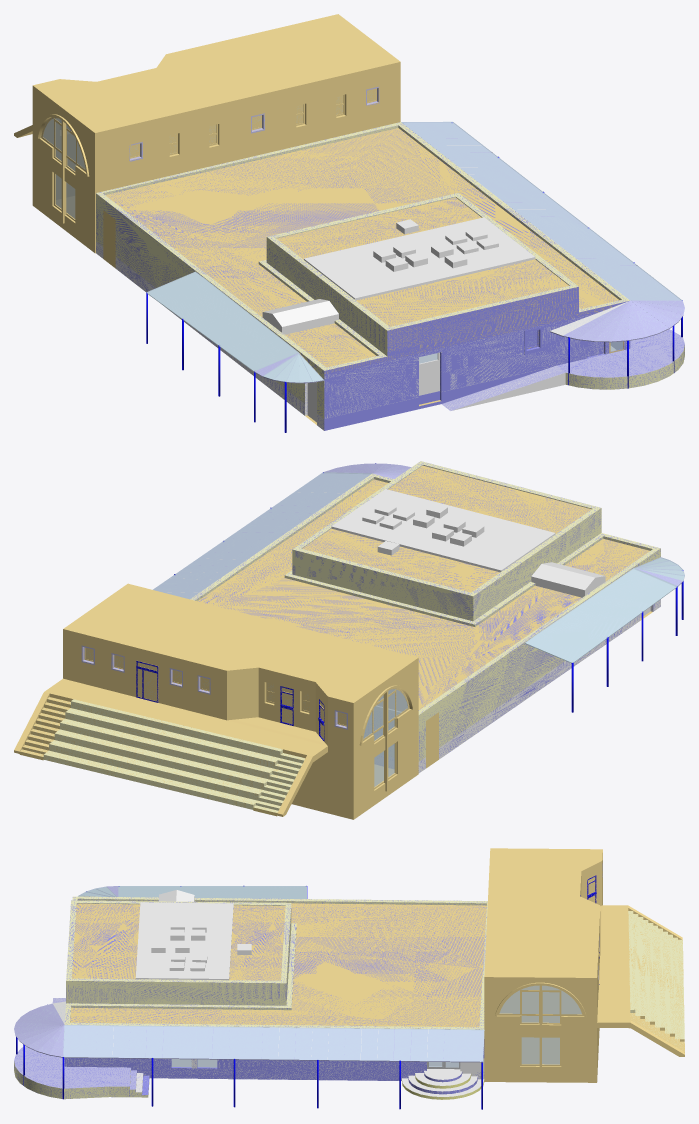
Rendered from cantine_seule.dae.
3 renders of one model, top to bottom at view 1: azimuth 30°, elevation 25°; view 2: azimuth 150°, elevation 25°; view 3: azimuth 270°, elevation 25°, orthographic. The views are drawn at different scales.
Parts seen in each view (by area): view 1: Composant_15 (×23), group_1 (×3), group_13 (×2); view 2: Composant_15 (×12), group_1 (×6), group_13 (×2), group_2 (×2); view 3: Composant_15 (×37), group_1 (×9), group_13 (×2), group_2.
Boxes of the visible parts, x1=… form: Composant_15 (×23): x1=96, y1=121, x2=684, y2=430; group_1 (×3): x1=32, y1=14, x2=400, y2=253; group_13 (×2): x1=146, y1=271, x2=298, y2=371; Composant_15 (×12): x1=155, y1=461, x2=684, y2=773; group_1 (×6): x1=14, y1=583, x2=418, y2=819; group_13 (×2): x1=525, y1=568, x2=677, y2=663; group_2 (×2): x1=253, y1=750, x2=312, y2=816; Composant_15 (×37): x1=14, y1=896, x2=487, y2=1099; group_1 (×9): x1=484, y1=848, x2=684, y2=1082; group_13 (×2): x1=118, y1=886, x2=306, y2=898; group_2: x1=628, y1=911, x2=682, y2=947.
Size of the model in its own units: 979 by 1598 by 291.
